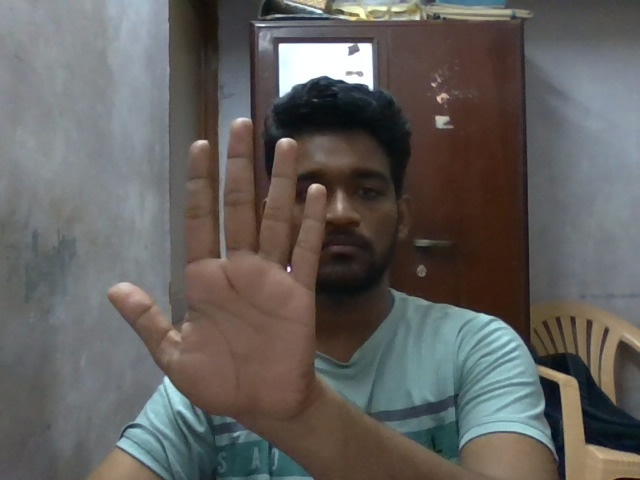Hello: (94, 113, 331, 431)
